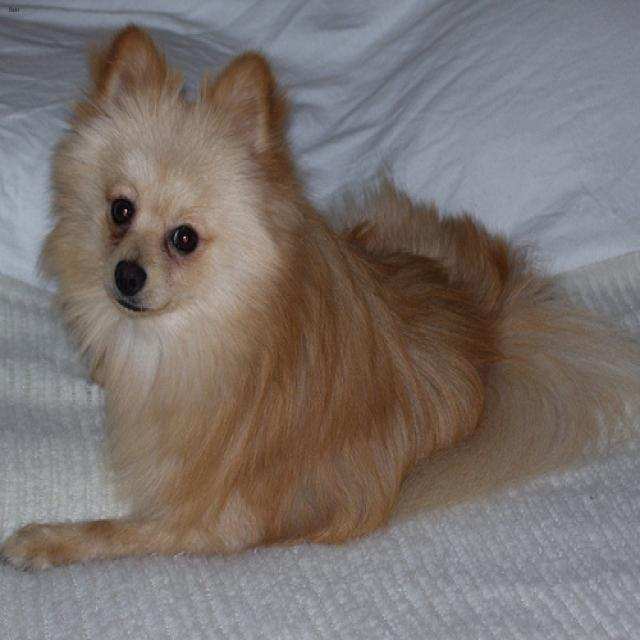dog-pomeranian: (1, 5, 637, 580)
